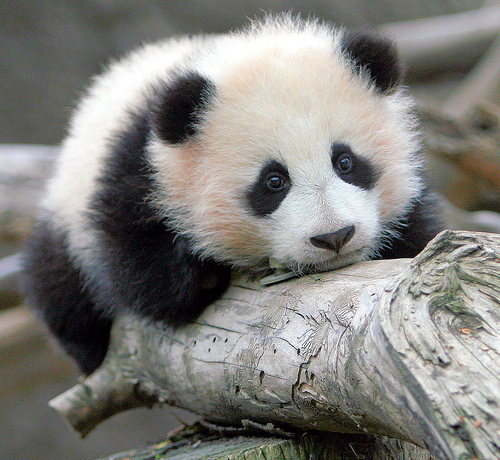panda: (34, 17, 441, 386)
